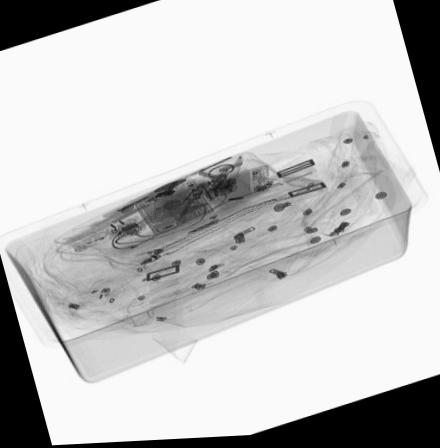Lighter: (73, 234, 111, 255)
